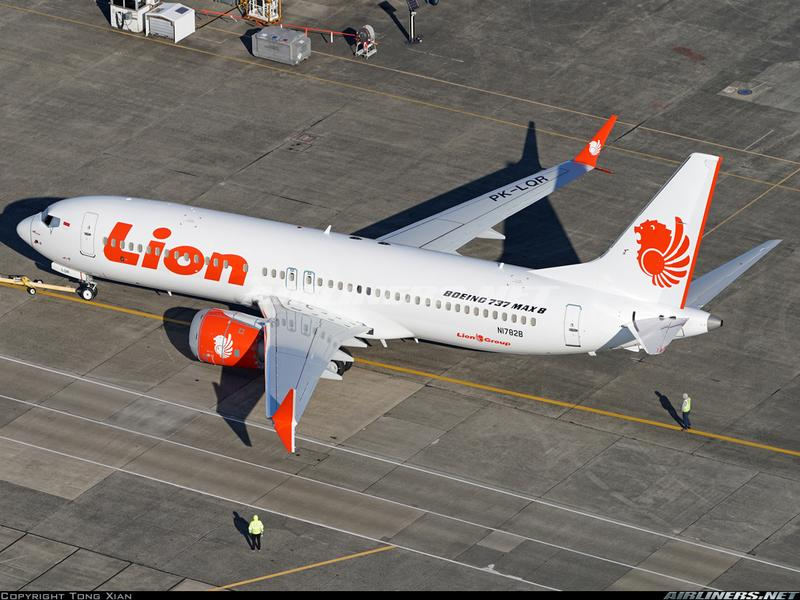737-MAX: (13, 114, 787, 457)
